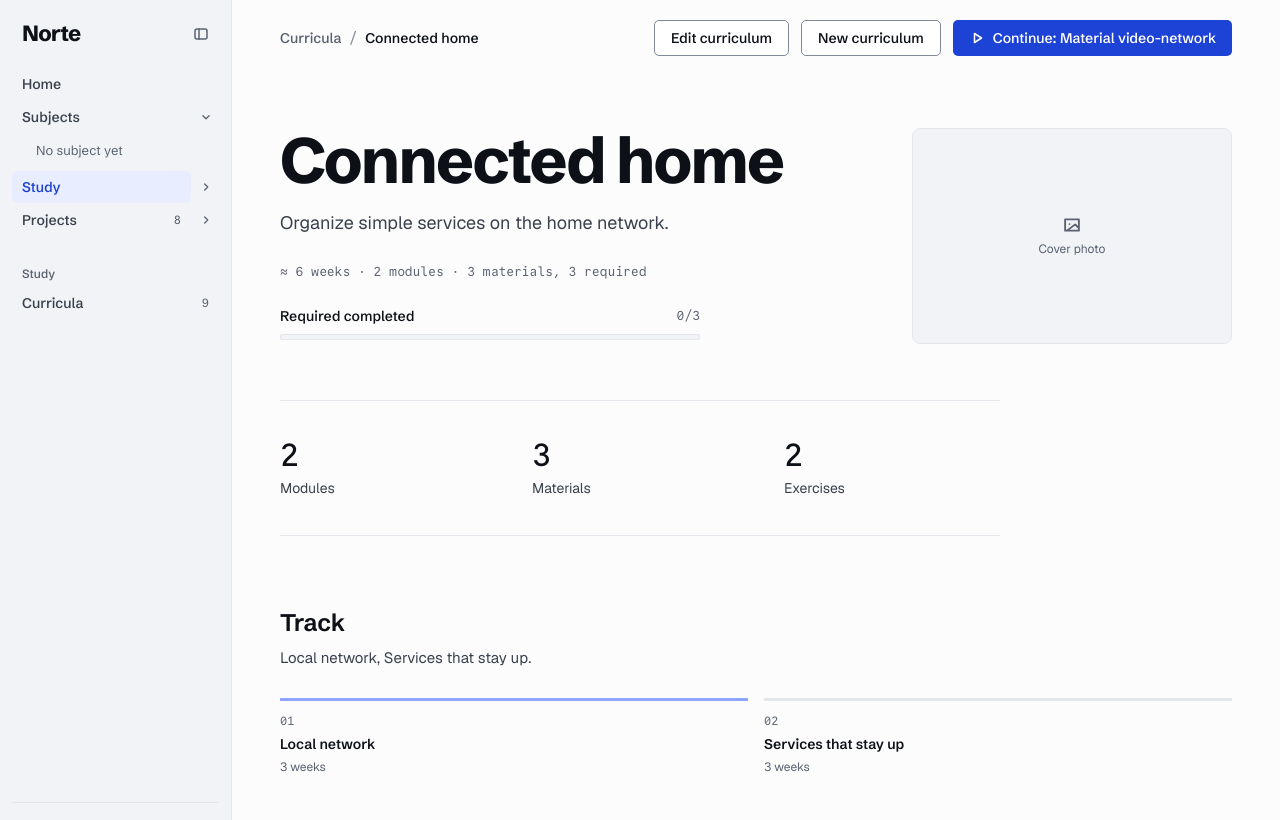
Test: curriculum screen › keeps the editor open with the reason when saving fails
Click the button with class "nt-btn": click(722, 38) x1=654 y1=20 x2=789 y2=56
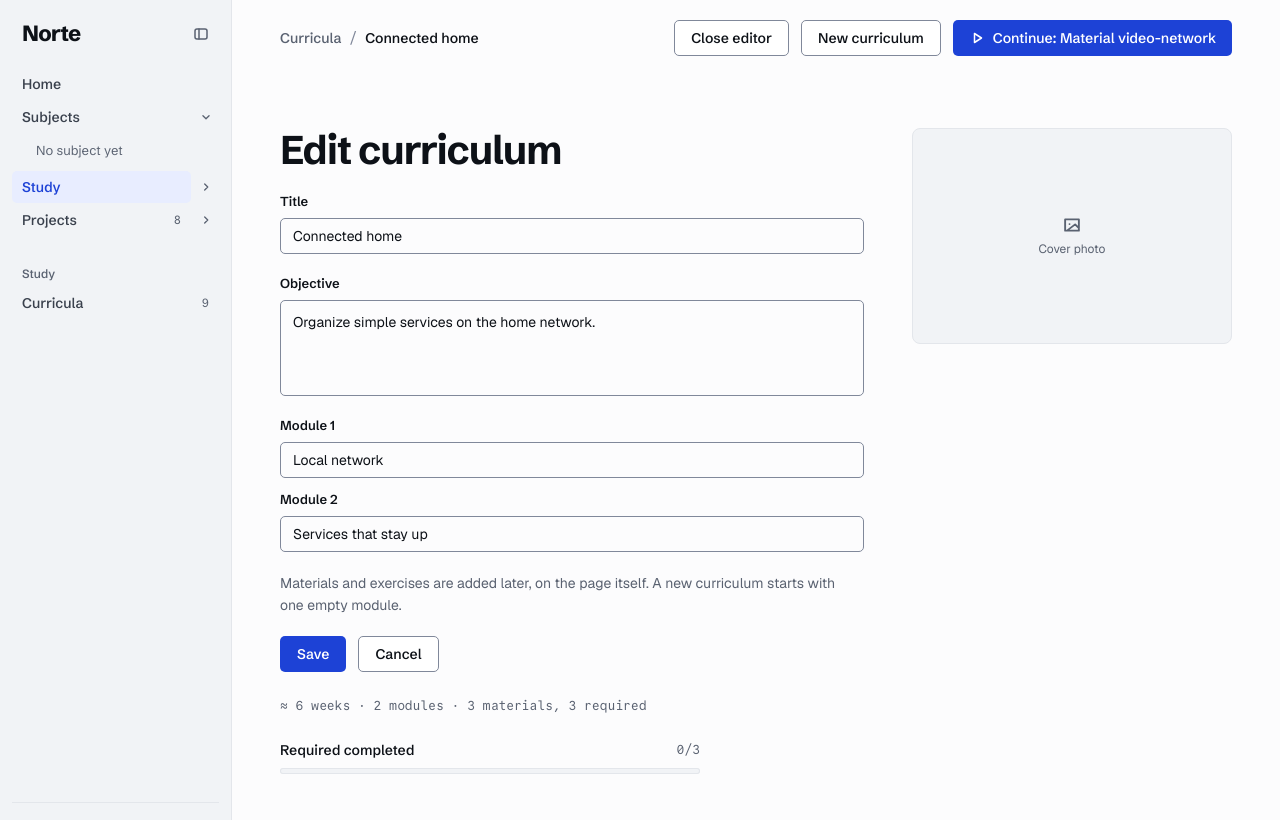
Expected: the element with class "nt-field" showing "Title" is shown, x1=280 y1=192 x2=864 y2=254
Replace the text in the field labelled "Title" with "A house on the network": (572, 236) x1=280 y1=218 x2=864 y2=254
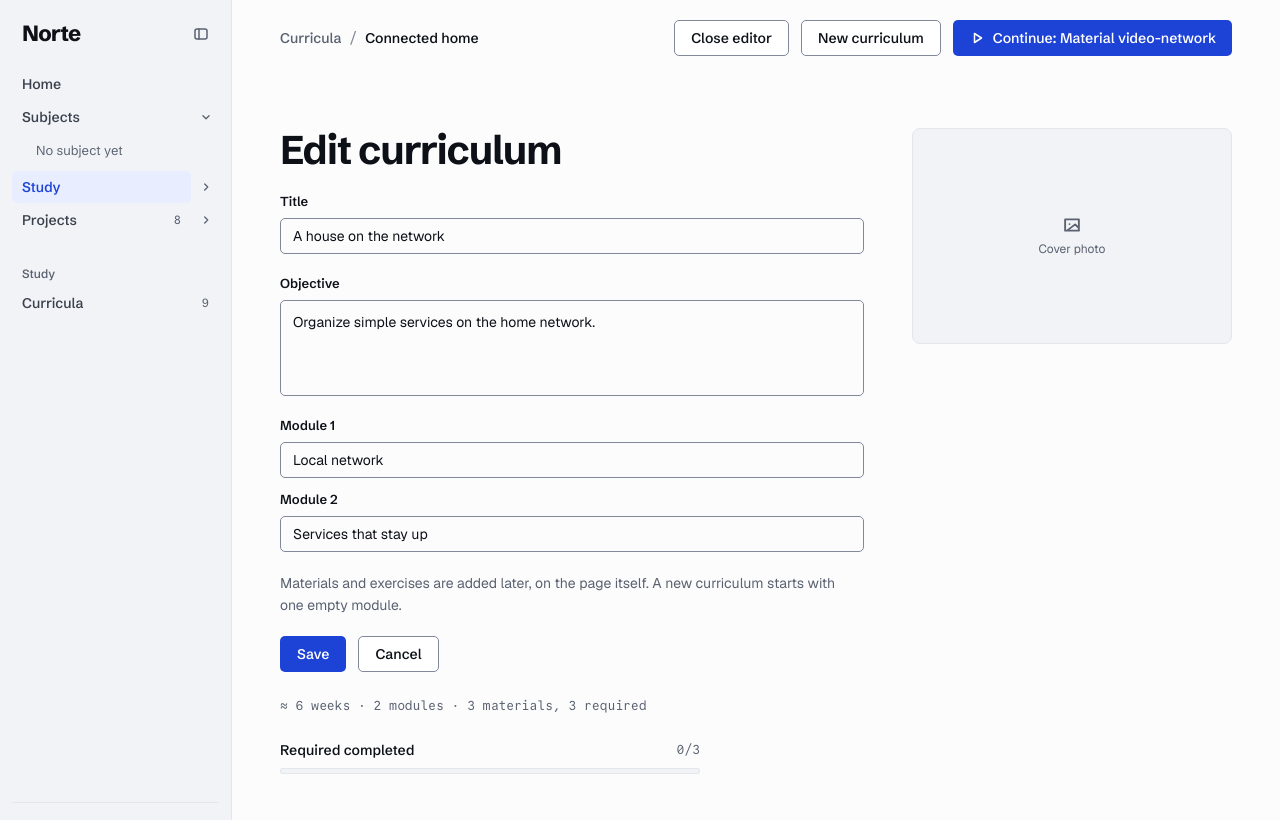
Click the button with class "nt-btn-primary": click(313, 654) x1=280 y1=636 x2=346 y2=672
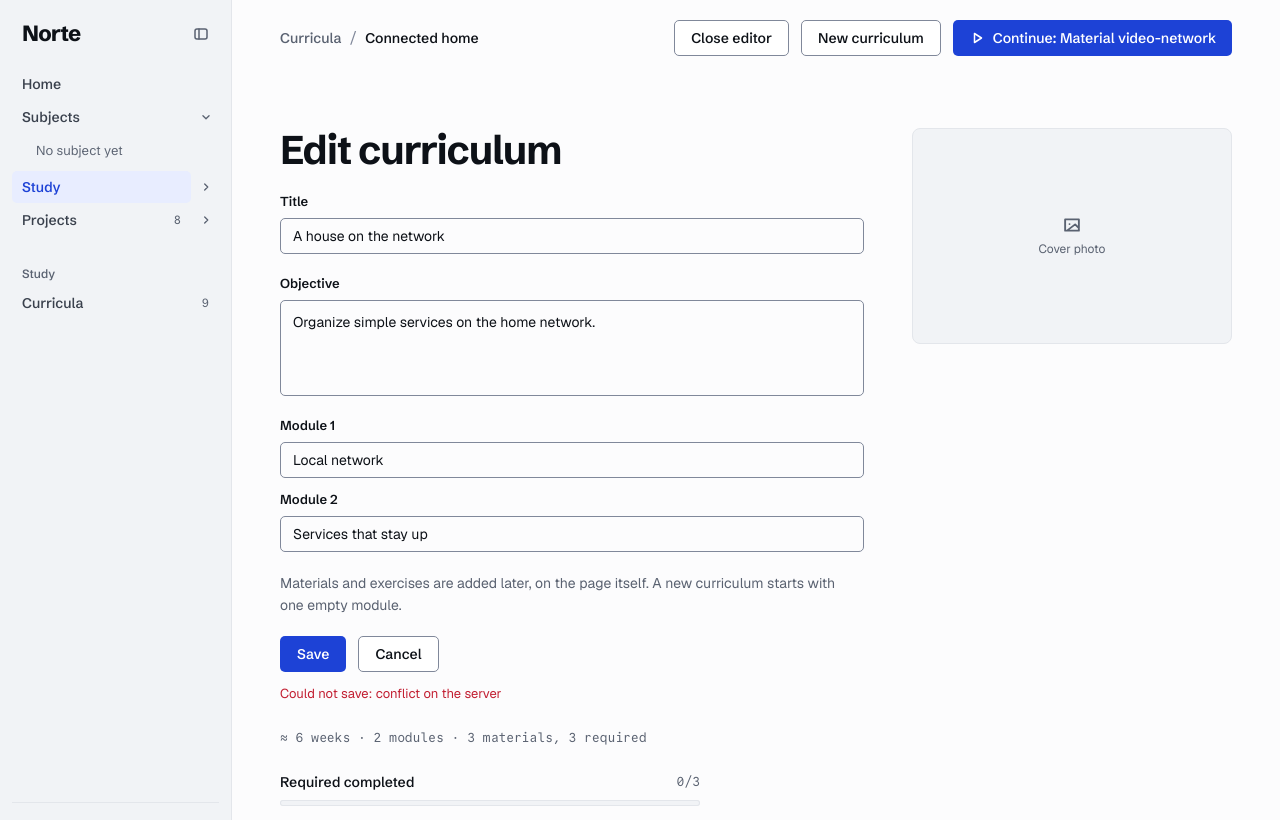
Expected: the form with class "editor" is shown, x1=280 y1=128 x2=864 y2=672
Expected: the message with class "curriculum-write-error" reads "Could not save: conflict on the server", x1=280 y1=685 x2=502 y2=702
